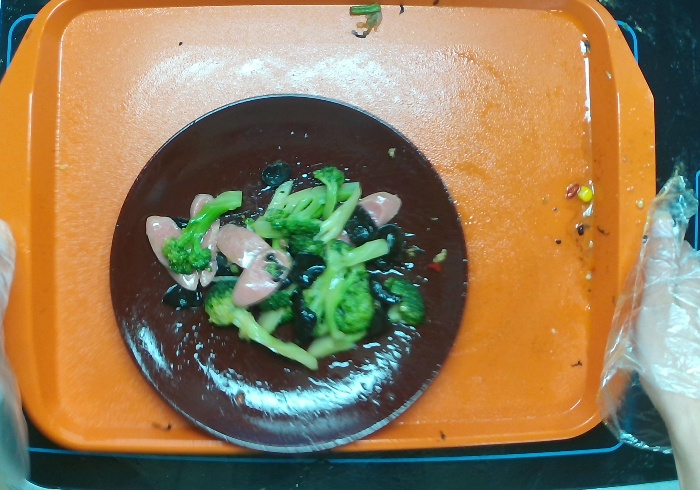HZYJPL-Ka_Fei_Yuan_Pan: (108, 92, 469, 454)
